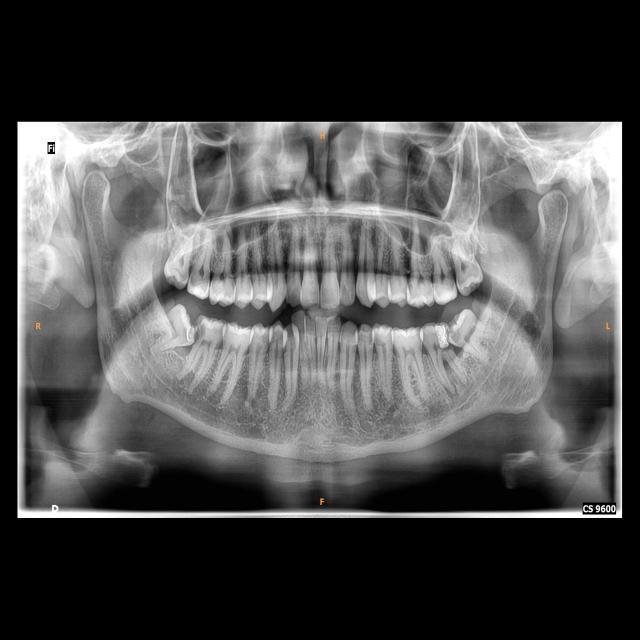dentin-curugu: (195, 314, 206, 346), (436, 342, 454, 354)
dolgu: (433, 323, 450, 344)
